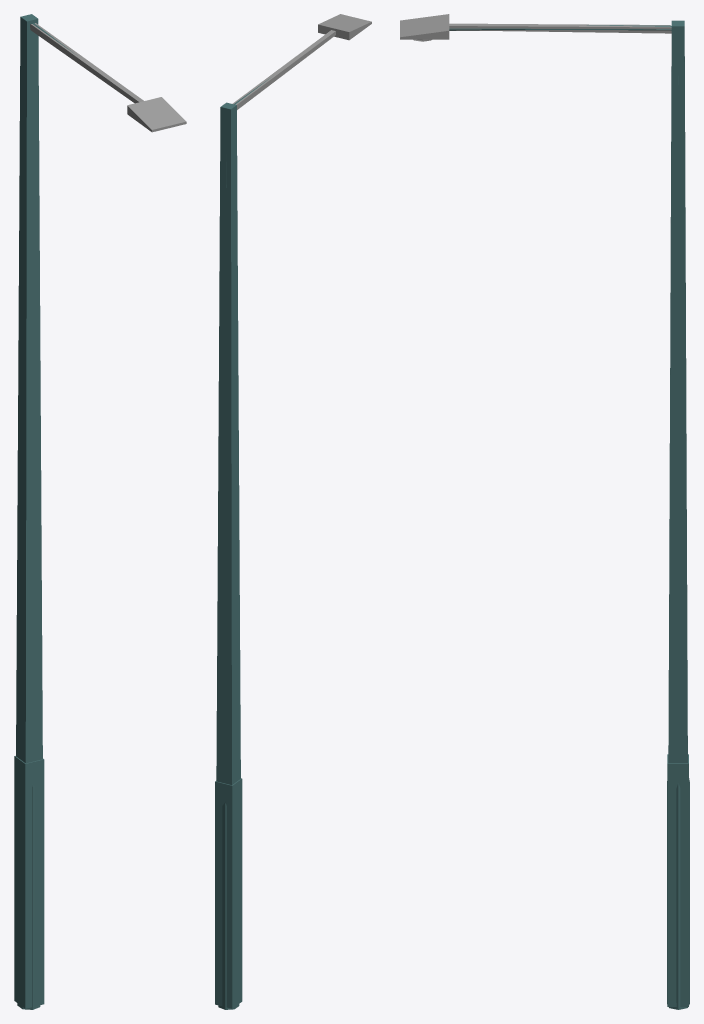
File: E_STlamp1.fbx
3 views of the same model, side by side, from view 1: azimuth 30°, elevation 25°; view 2: azimuth 150°, elevation 25°; view 3: azimuth 270°, elevation 25° (orthographic). The views are drawn at different scales.
Visible parts, largest first — view 1: lp_e_stlamp1, mp_e_stlamps1, hp_e_stlamp01; view 2: lp_e_stlamp1, mp_e_stlamps1, hp_e_stlamp01; view 3: lp_e_stlamp1, mp_e_stlamps1, hp_e_stlamp01.
Part boxes in pixels (x1,y1,x2,y2): lp_e_stlamp1: (16, 14, 173, 763); mp_e_stlamps1: (14, 23, 185, 1008); hp_e_stlamp01: (17, 23, 186, 1009); lp_e_stlamp1: (216, 14, 370, 784); mp_e_stlamps1: (215, 14, 371, 1008); hp_e_stlamp01: (218, 14, 371, 1009); lp_e_stlamp1: (400, 14, 688, 1006); mp_e_stlamps1: (400, 14, 688, 1001); hp_e_stlamp01: (400, 14, 689, 1009).
Bounding box in the file's own units: 40.18 × 1099 × 294.
